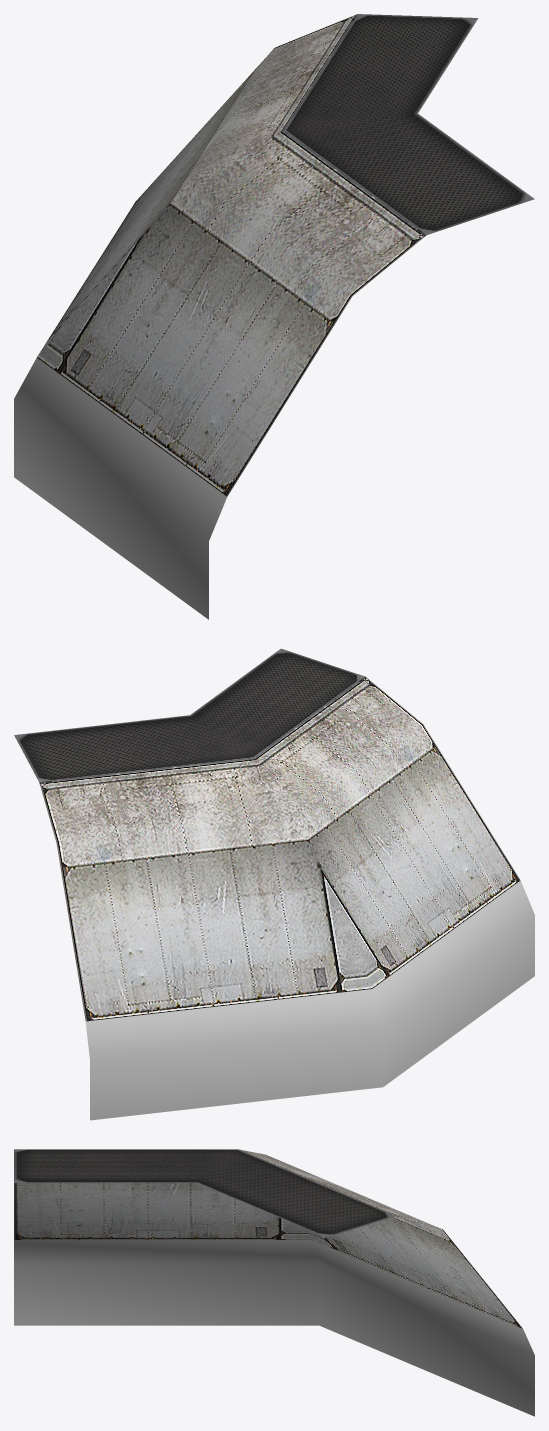
The model's file is Roof_B_Short2mts_02.fbx.
The picture shows the model from 3 angles, top to bottom: view 1: azimuth 30°, elevation 25°; view 2: azimuth 150°, elevation 25°; view 3: azimuth 270°, elevation 25°; orthographic projection. The views are drawn at different scales.
Visible parts, largest first — view 1: Roof_B_Short2mts_02; view 2: Roof_B_Short2mts_02; view 3: Roof_B_Short2mts_02.
Part boxes in pixels (left/top/right/bottom): Roof_B_Short2mts_02: left=14, top=14, right=534, bottom=619; Roof_B_Short2mts_02: left=14, top=648, right=534, bottom=1120; Roof_B_Short2mts_02: left=14, top=1149, right=534, bottom=1416.
Size of the model in its own units: 288 by 200 by 354.
